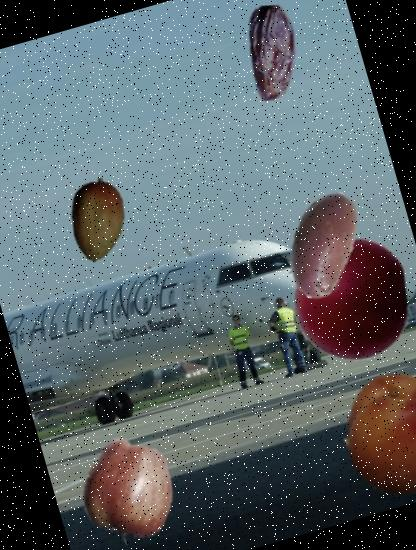Apple: (63, 427, 193, 550)
Apricot: (321, 357, 416, 510)
Cherry: (274, 221, 416, 376)
Dates: (213, 0, 332, 112)
Papaya: (46, 168, 150, 272)
Potato: (255, 176, 392, 313)
